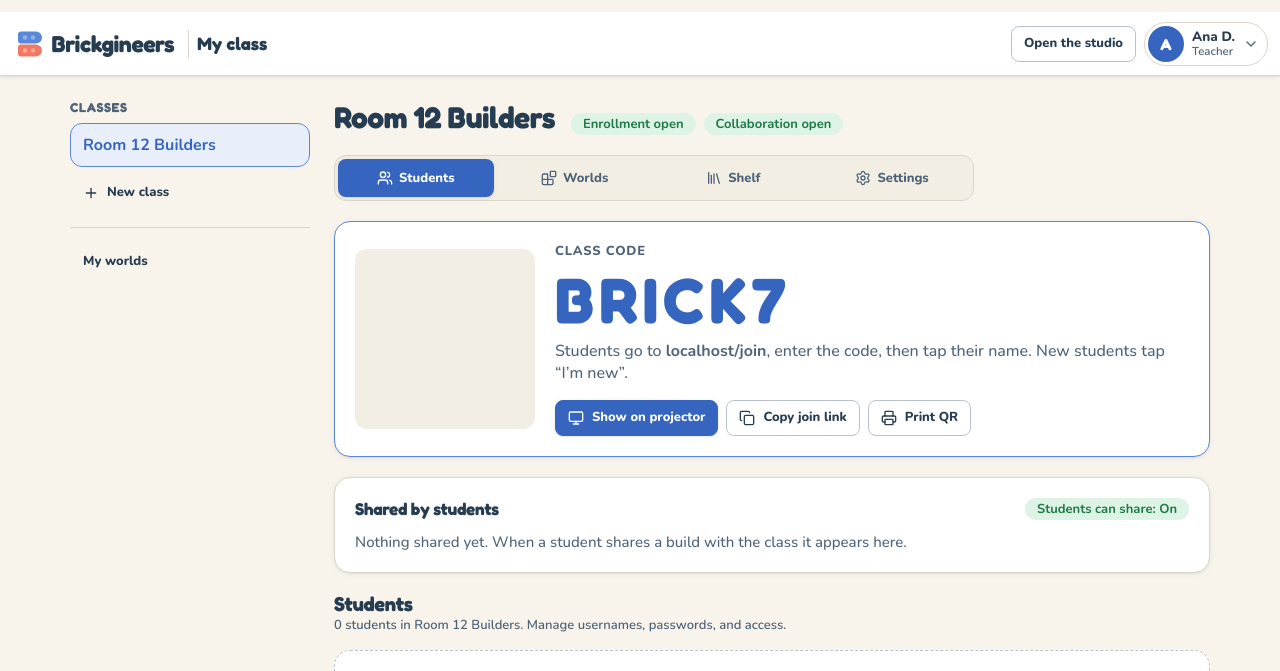
Test: lists what waits, what is on the shelf and what is hidden, with names only as first name and last initial
Click the radio button labelled "Shelf" at point(733, 178), box [656, 159, 811, 197]
(page scrolled)
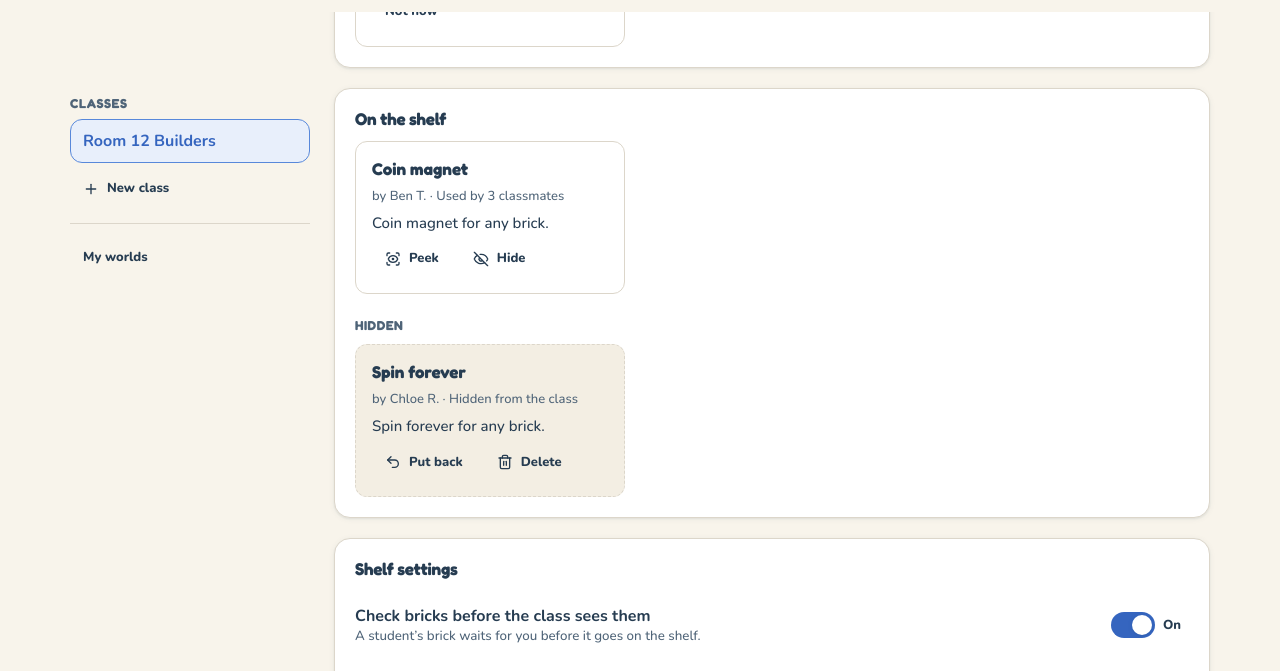
Now the text "by Ben T. · Used by 3 classmates" is shown, box [372, 186, 564, 204]
Now the text "Spin forever" is shown, box [372, 362, 466, 382]
